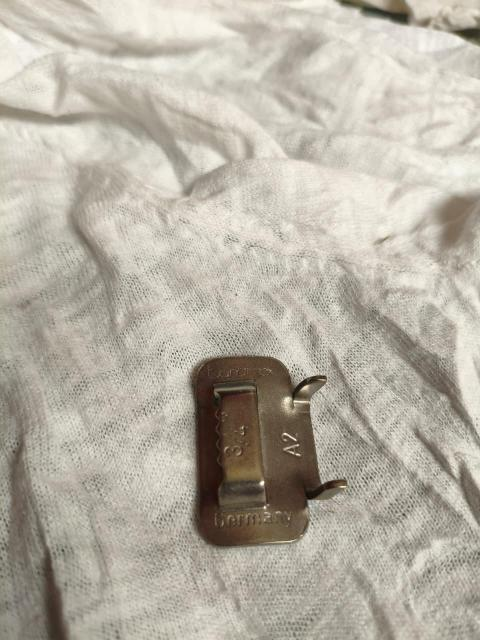Metal: (188, 347, 355, 558)
